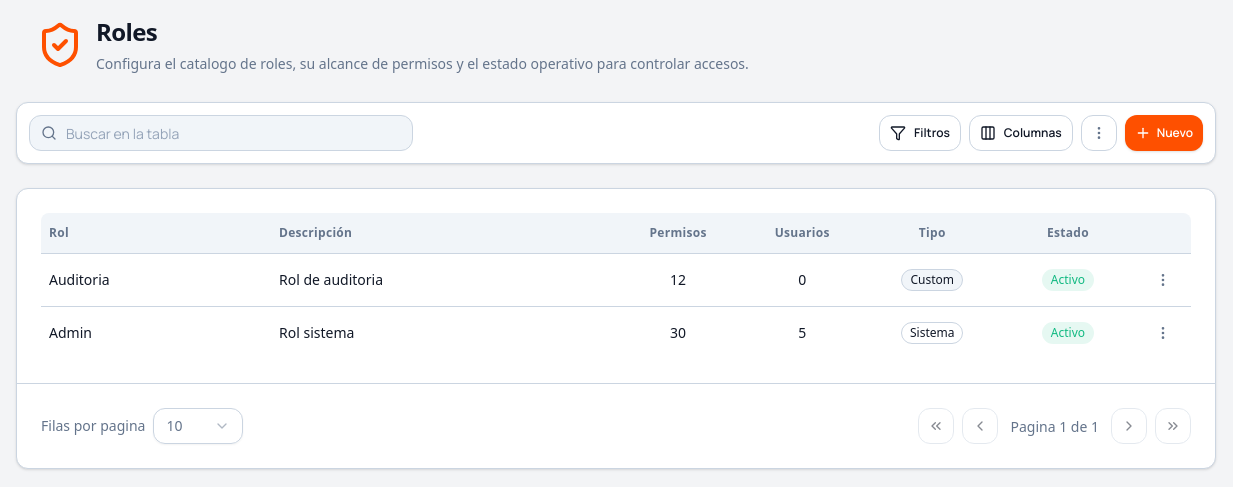
RolesPage UI › toggles column visibility
Click the button "Columnas": (1021, 133) [969, 115, 1073, 151]
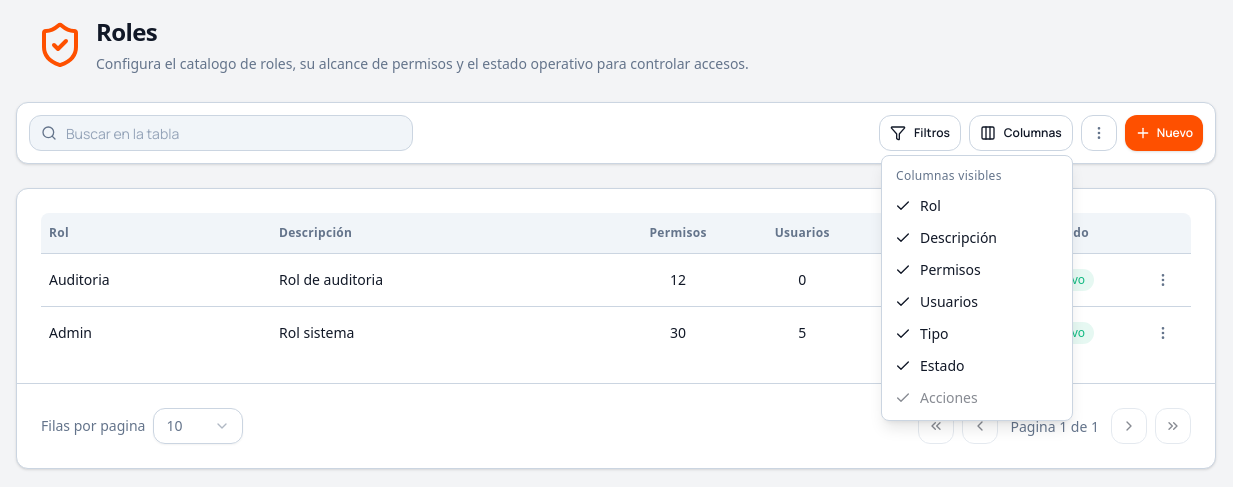
Click the menu item "Descripción": (946, 238) [895, 228, 997, 247]
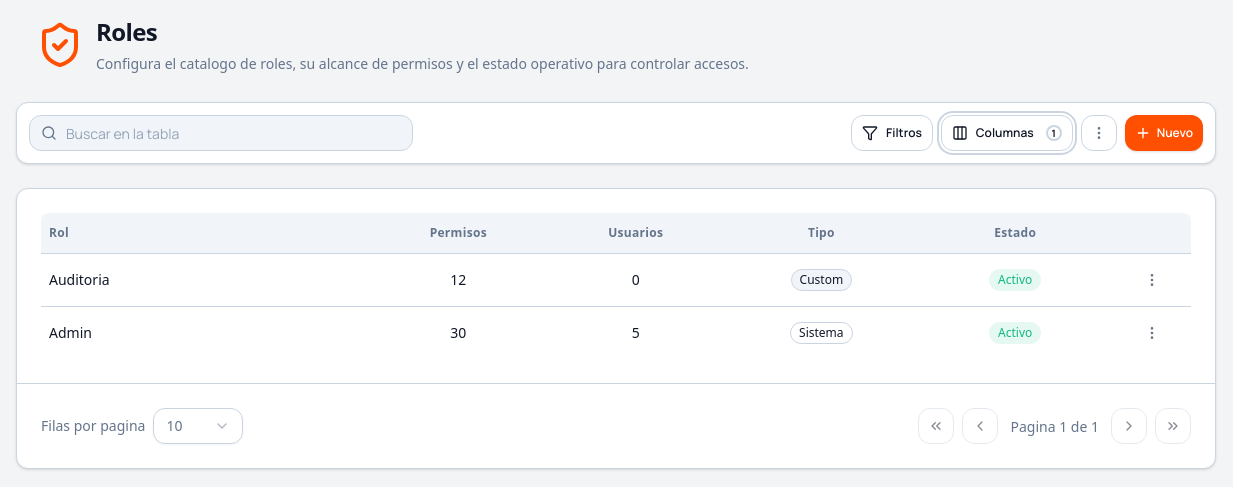
Expected: the column heading "Descripción" is gone
